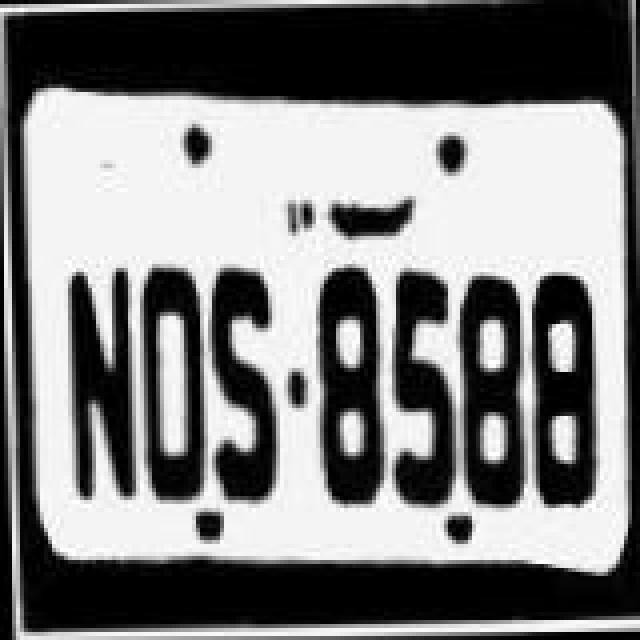5: (382, 268, 462, 508)
8: (306, 256, 394, 516), (524, 262, 608, 514), (454, 252, 534, 516)
N: (60, 266, 144, 510)
O: (128, 256, 212, 508)
S: (202, 266, 290, 510)
